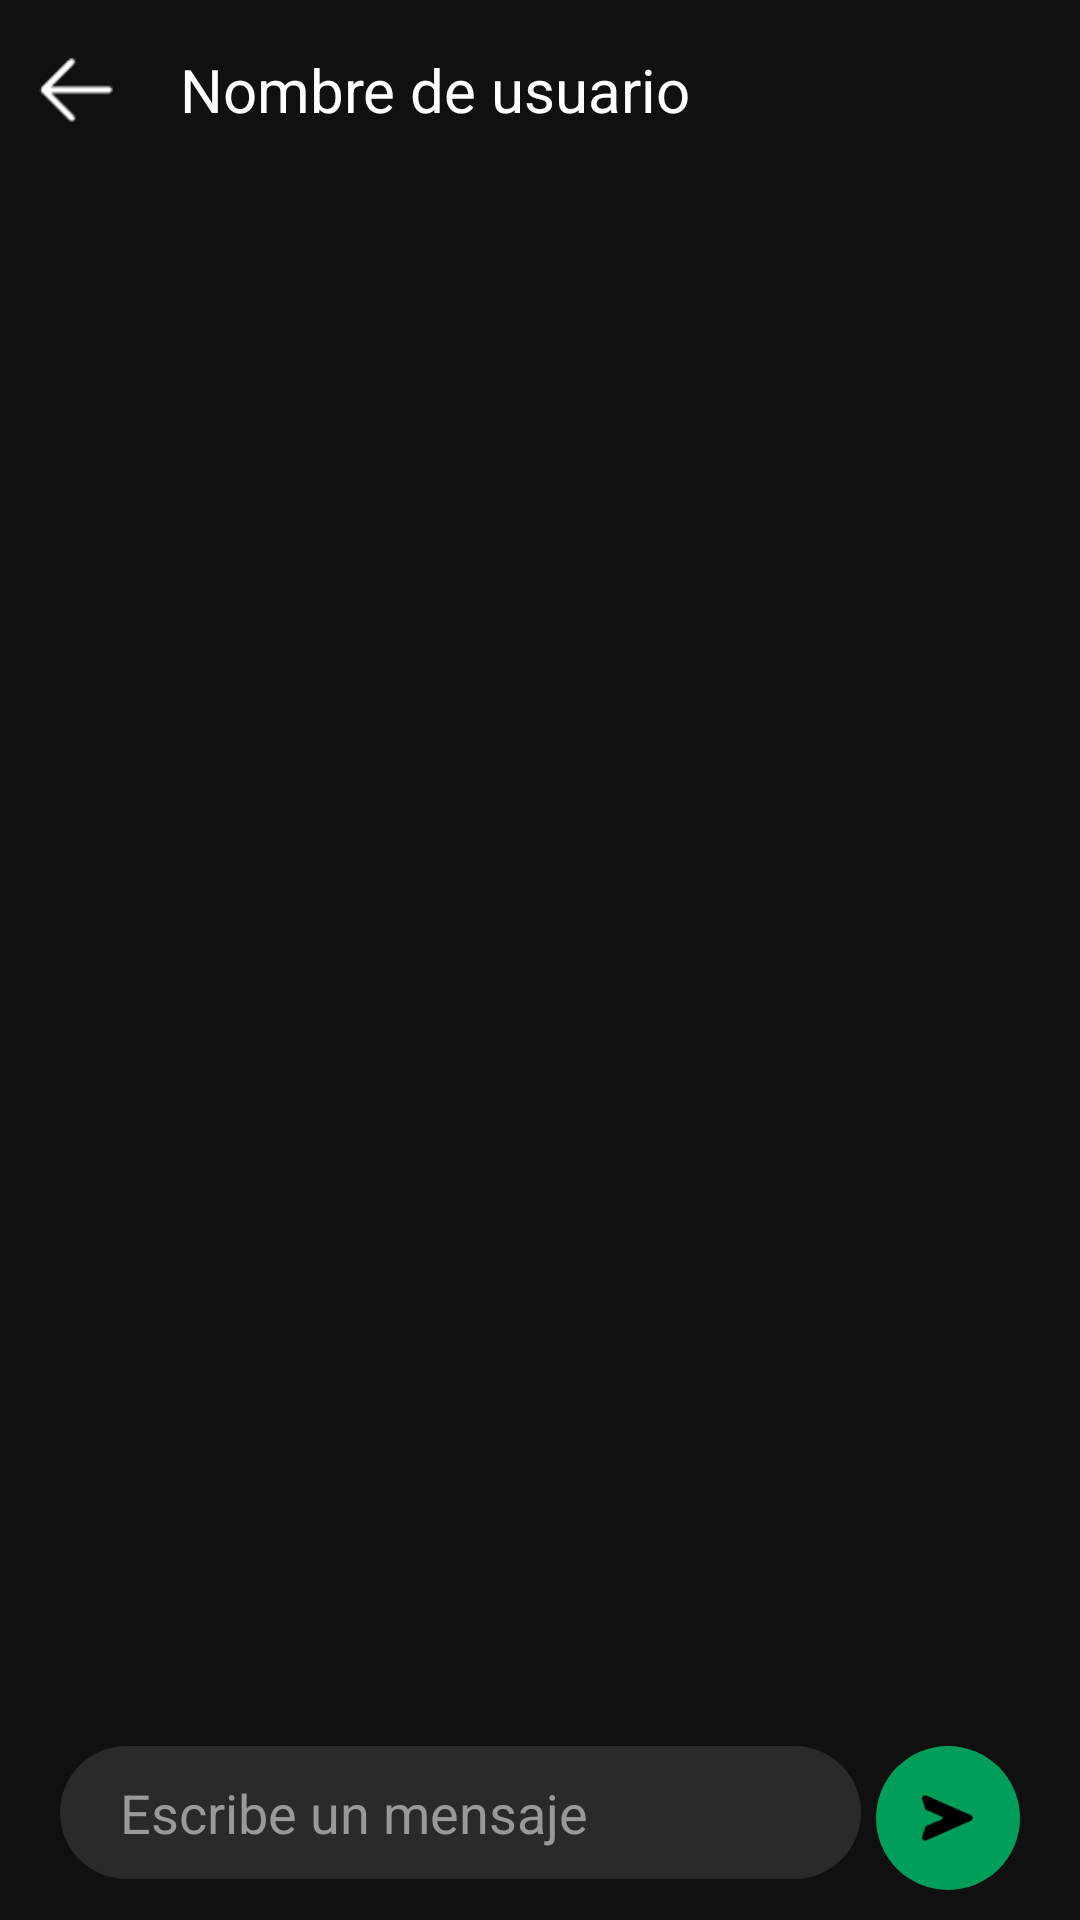

Named icons in this screenshot (1080px×1920px) and their centers, (x=x, y=y):
arrow left: (x=76, y=90)
Enviar: (x=948, y=1818)
